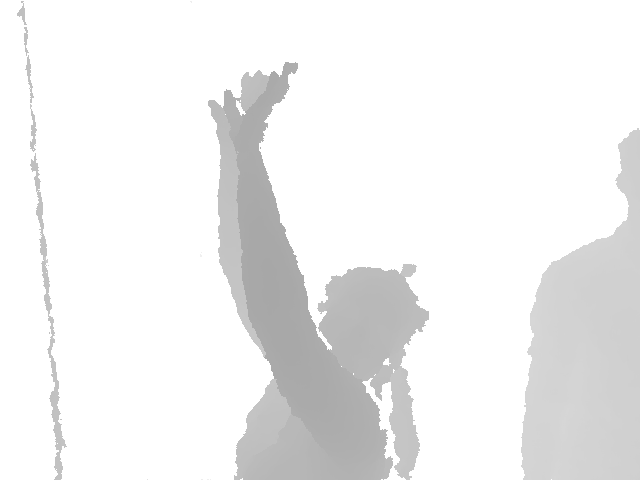hand: (207, 60, 298, 142)
head: (315, 263, 430, 381), (615, 126, 640, 219)
person: (207, 60, 431, 479), (519, 125, 640, 480)
